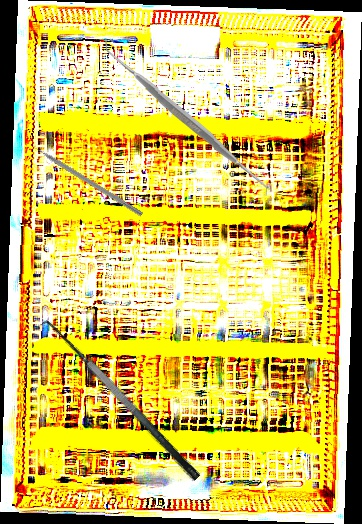Chopper: (26, 135, 147, 217)
Spatula Surgical: (32, 310, 203, 495), (102, 38, 270, 197)
